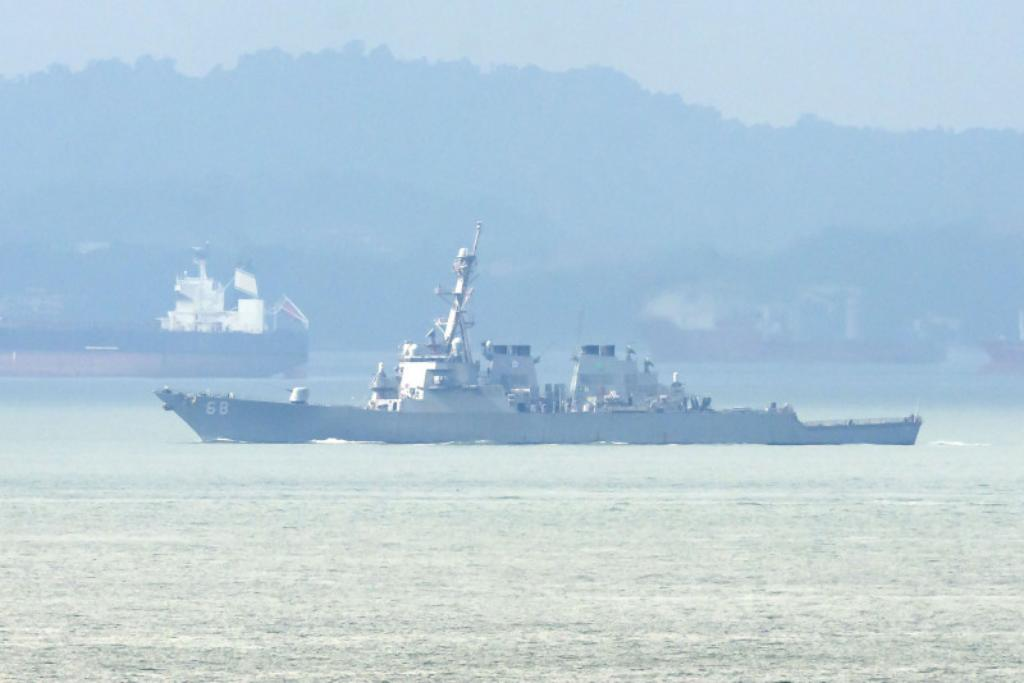Warship: (154, 220, 924, 446)
